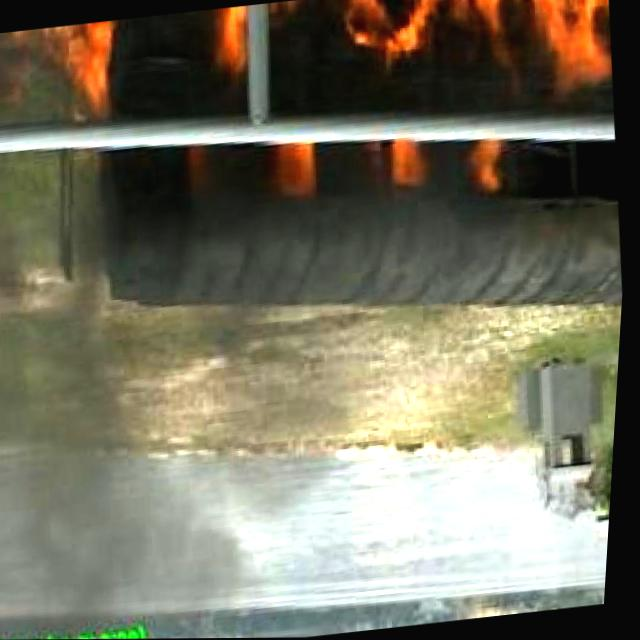helmet: (328, 0, 617, 112), (176, 130, 341, 216), (43, 19, 122, 133), (201, 2, 277, 111), (386, 122, 517, 184)
no_helmet: (0, 285, 366, 632)
